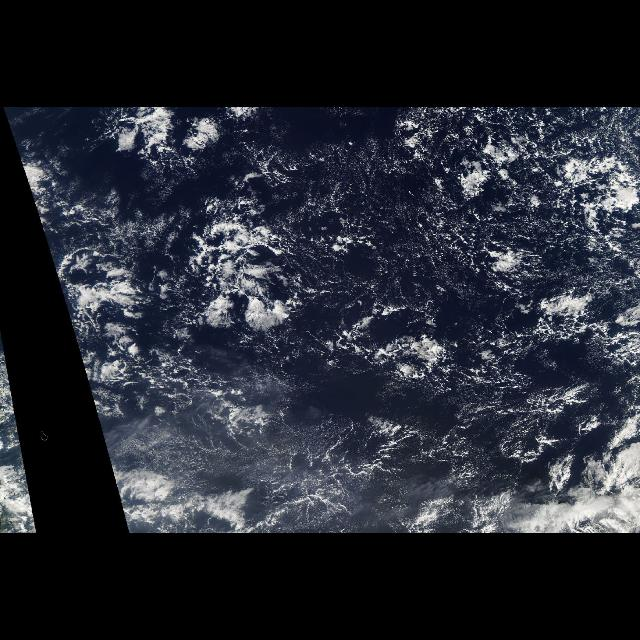Gravel: (242, 109, 640, 411)
Sugar: (88, 393, 286, 527), (2, 393, 36, 527)
